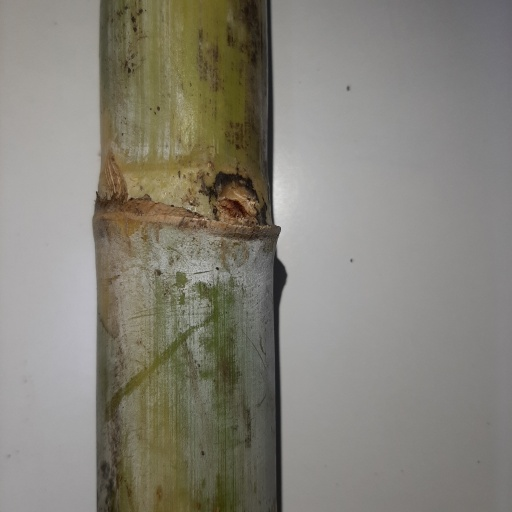Damage_Bud: (215, 181, 261, 223)
